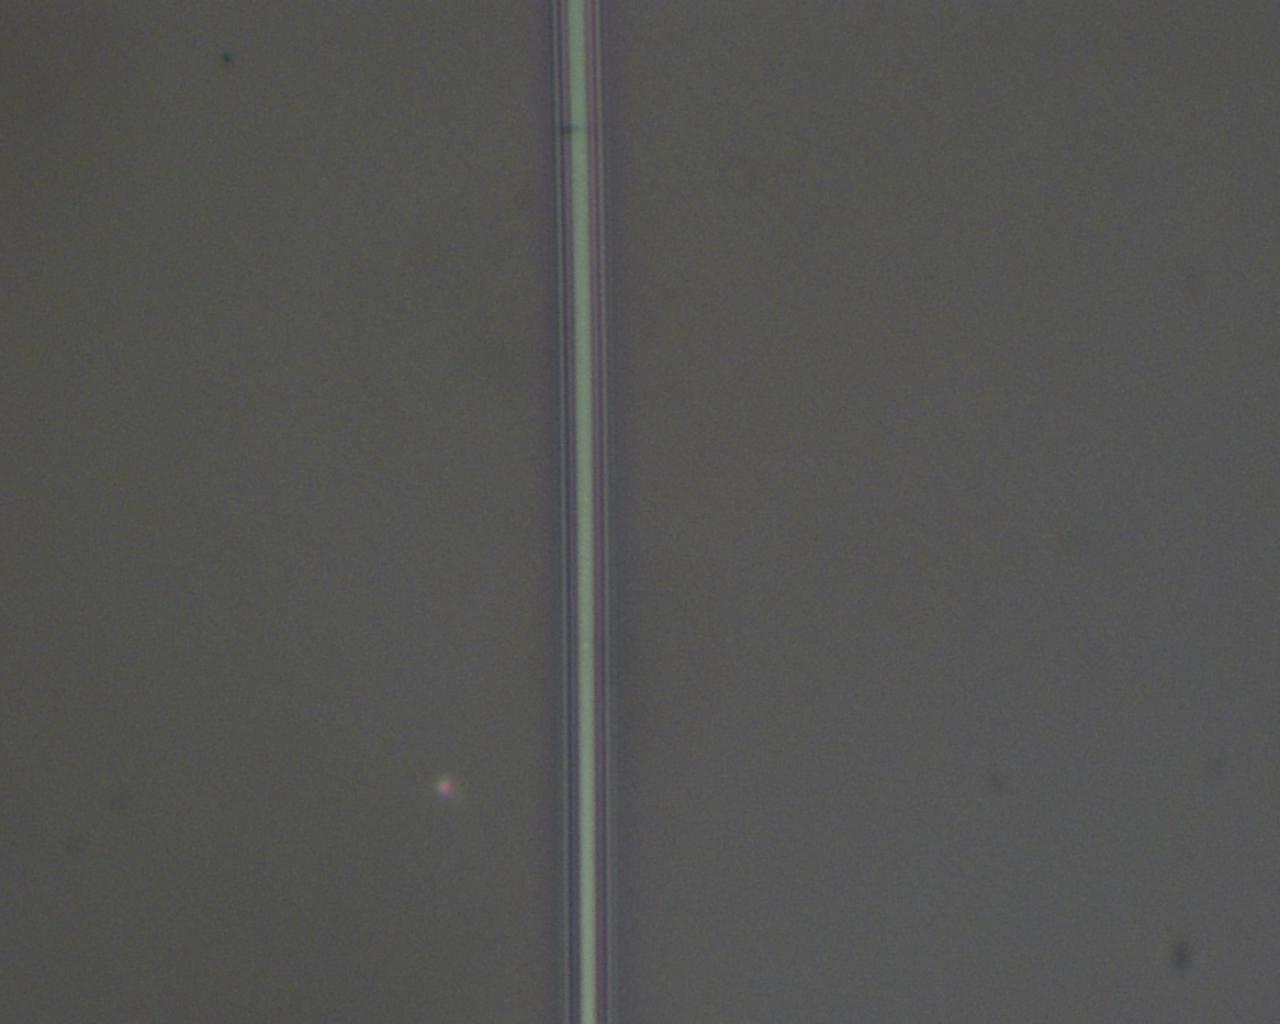fiber: (448, 681, 1280, 931), (517, 141, 1280, 279)
